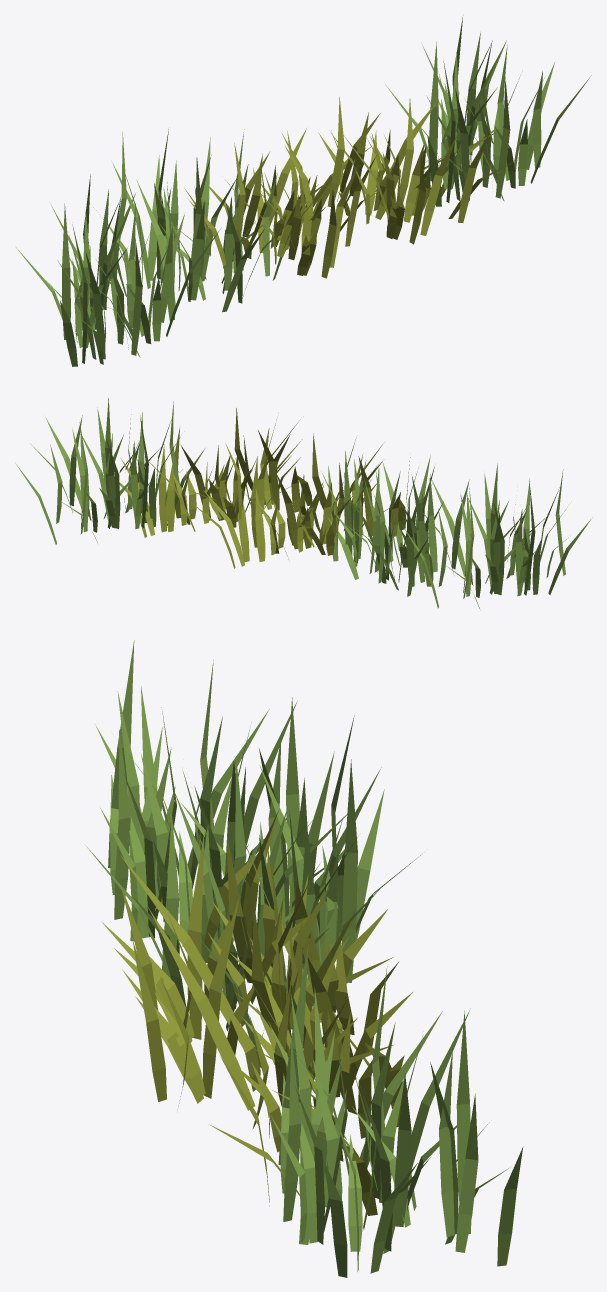
3 renders of one model, top to bottom at view 1: azimuth 30°, elevation 25°; view 2: azimuth 150°, elevation 25°; view 3: azimuth 270°, elevation 25°, orthographic. The views are drawn at different scales.
Parts seen in each view (by area): view 1: Floor|Gras 2|Dupli|61_Material.003_0.002, Floor|Gras 2|Dupli|61_Material.003_0.001, Floor|Gras 4|Dupli|39_Material.005_0.001, Floor|Gras 2|Dupli|61_Material.003_0, Floor|Gras 4|Dupli|39_Material.005_0; view 2: Floor|Gras 2|Dupli|61_Material.003_0.002, Floor|Gras 2|Dupli|61_Material.003_0, Floor|Gras 4|Dupli|39_Material.005_0, Floor|Gras 4|Dupli|39_Material.005_0.001, Floor|Gras 2|Dupli|61_Material.003_0.001; view 3: Floor|Gras 2|Dupli|61_Material.003_0.001, Floor|Gras 4|Dupli|39_Material.005_0.001, Floor|Gras 2|Dupli|61_Material.003_0.002, Floor|Gras 2|Dupli|61_Material.003_0, Floor|Gras 4|Dupli|39_Material.005_0.
Boxes of the visible parts, <box> form: Floor|Gras 2|Dupli|61_Material.003_0.002: <box>16,174,220,366</box>; Floor|Gras 2|Dupli|61_Material.003_0.001: <box>385,17,591,206</box>; Floor|Gras 4|Dupli|39_Material.005_0.001: <box>282,96,512,244</box>; Floor|Gras 2|Dupli|61_Material.003_0: <box>93,129,317,312</box>; Floor|Gras 4|Dupli|39_Material.005_0: <box>184,128,397,278</box>; Floor|Gras 2|Dupli|61_Material.003_0.002: <box>402,463,592,608</box>; Floor|Gras 2|Dupli|61_Material.003_0: <box>327,451,443,596</box>; Floor|Gras 4|Dupli|39_Material.005_0: <box>191,433,406,568</box>; Floor|Gras 4|Dupli|39_Material.005_0.001: <box>104,408,312,537</box>; Floor|Gras 2|Dupli|61_Material.003_0.001: <box>15,398,205,544</box>; Floor|Gras 2|Dupli|61_Material.003_0.001: <box>268,945,523,1277</box>; Floor|Gras 4|Dupli|39_Material.005_0.001: <box>122,883,412,1215</box>; Floor|Gras 2|Dupli|61_Material.003_0.002: <box>95,640,344,969</box>; Floor|Gras 2|Dupli|61_Material.003_0: <box>86,715,420,1067</box>; Floor|Gras 4|Dupli|39_Material.005_0: <box>101,810,404,1139</box>.
Bounding box in the file's own units: 12.7 × 3.56 × 4.92.
